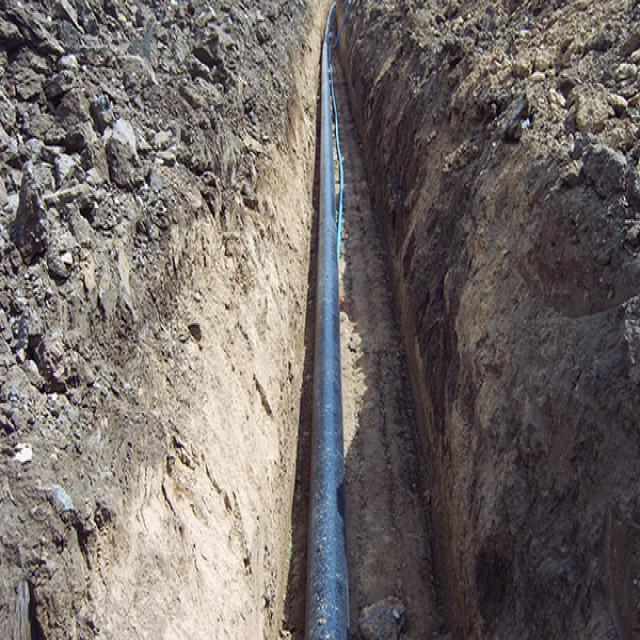gas: (305, 6, 349, 639)
